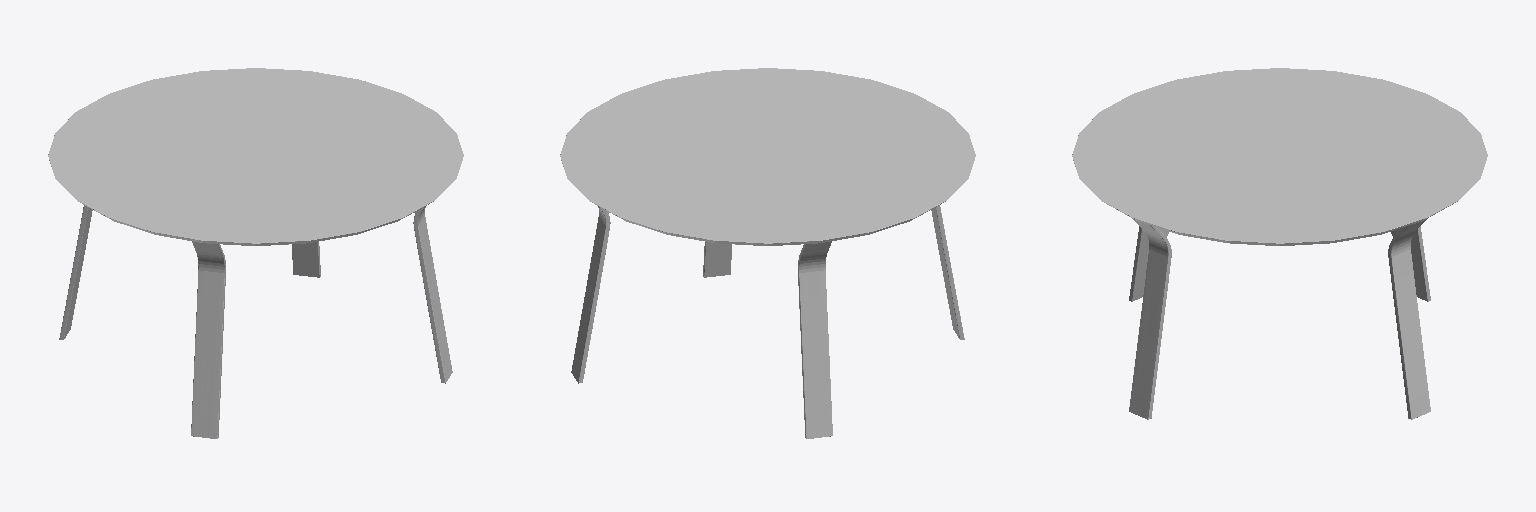
The model's file is table.obj.
3 renders of one model, left to right at view 1: azimuth 30°, elevation 25°; view 2: azimuth 150°, elevation 25°; view 3: azimuth 270°, elevation 25°, orthographic.
Visible parts, largest first — view 1: 001_Table, 000_Legs; view 2: 001_Table, 000_Legs; view 3: 001_Table, 000_Legs.
Part boxes in pixels (x1,y1,x2,y2): 001_Table: (48,68,463,245); 000_Legs: (59,205,452,438); 001_Table: (560,68,975,245); 000_Legs: (571,205,964,438); 001_Table: (1072,68,1487,245); 000_Legs: (1129,218,1430,419).
Bounding box in the file's own units: 184 × 98.04 × 184.